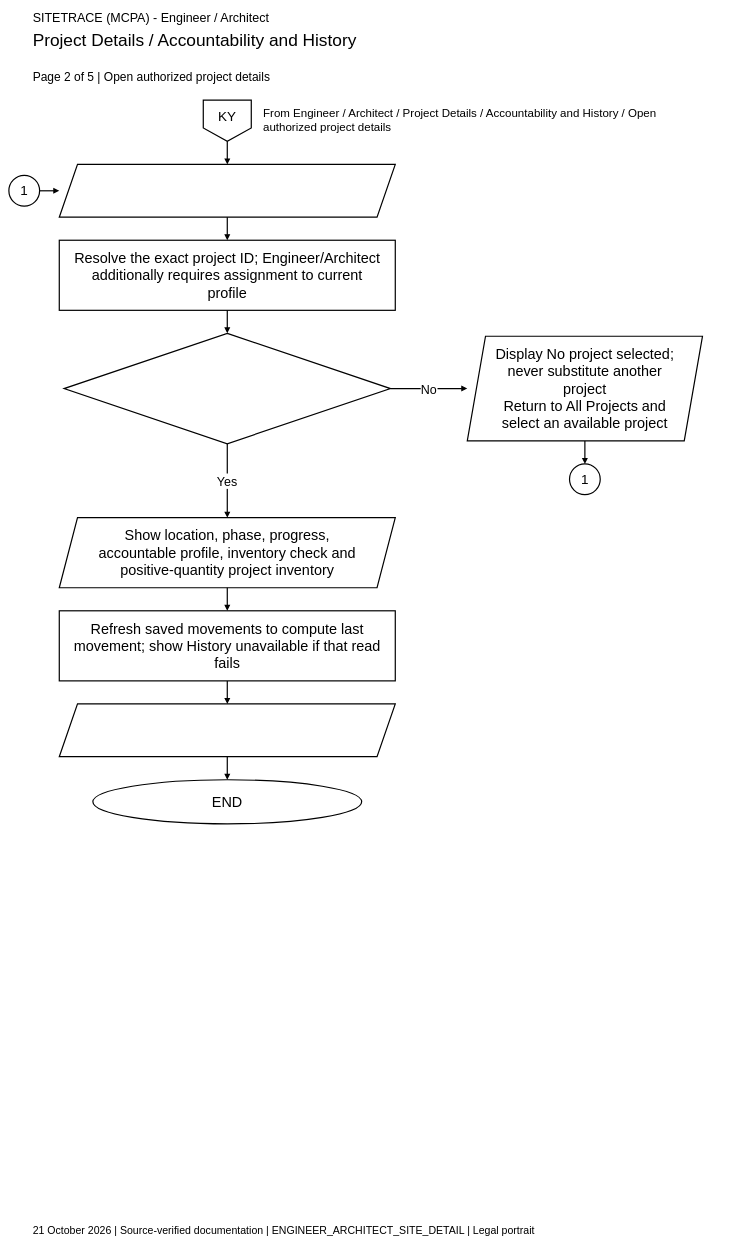
Image size: 747x1248. Some labels were removed from this diagram. Here are the shapes that lost their labels. From the top down, the centre of each, then its label:
At (x=227, y=191): "Select a project or follow site-detail?record=project-ID".
At (x=227, y=388): "The requested project is available and authorized?".
At (x=227, y=730): "Project accountability and inventory are displayed without editing equipment.".
